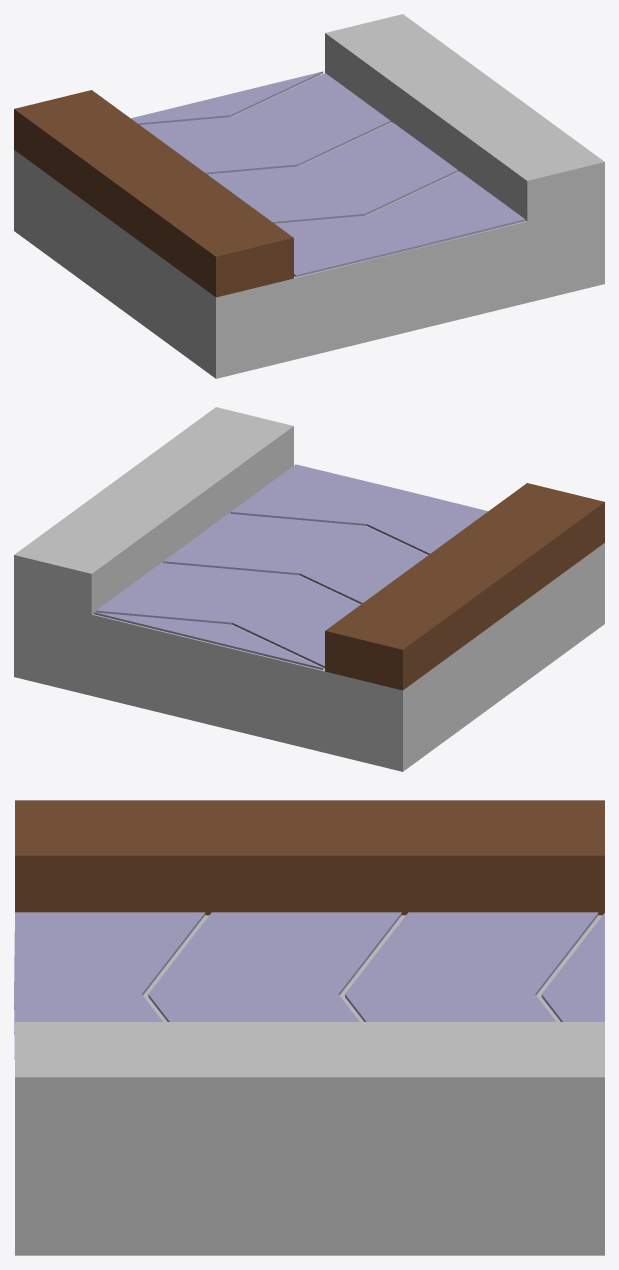
The model's file is belt.obj.
3 renders of one model, top to bottom at view 1: azimuth 30°, elevation 25°; view 2: azimuth 150°, elevation 25°; view 3: azimuth 270°, elevation 25°, orthographic. The views are drawn at different scales.
Parts seen in each view (by area): view 1: Cube.006, Cube.004, Cube.005, Cube, Cube.002, Cube.001, Cube.003; view 2: Cube.006, Cube.004, Cube.005, Cube.002, Cube, Cube.001, Cube.003; view 3: Cube.006, Cube.005, Cube.004, Cube.002, Cube, Cube.001, Cube.003.
Part boxes in pixels (x1,y1,x2,y2): Cube.006: [14, 74, 604, 378]; Cube.004: [14, 90, 293, 297]; Cube.005: [325, 14, 604, 221]; Cube: [207, 122, 457, 223]; Cube.002: [140, 73, 390, 174]; Cube.001: [275, 172, 525, 276]; Cube.003: [131, 71, 323, 124]; Cube.006: [14, 513, 604, 771]; Cube.004: [325, 483, 604, 690]; Cube.005: [14, 407, 293, 614]; Cube.002: [96, 563, 360, 668]; Cube: [163, 513, 427, 604]; Cube.001: [230, 464, 488, 554]; Cube.003: [93, 612, 323, 669]; Cube.006: [15, 915, 604, 1255]; Cube.005: [15, 1022, 604, 1136]; Cube.004: [15, 800, 604, 915]; Cube.002: [345, 912, 598, 1021]; Cube: [148, 912, 401, 1021]; Cube.001: [14, 912, 205, 1058]; Cube.003: [541, 913, 604, 1021].
Size of the model in its own units: 10 by 3 by 9.02.
